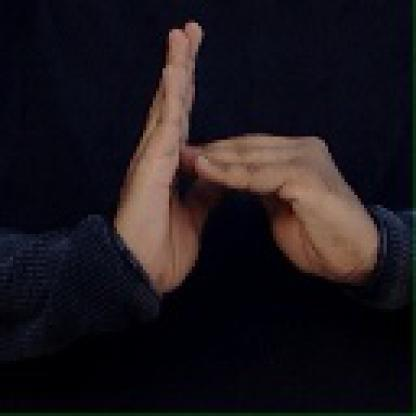Z: (122, 16, 350, 304)
